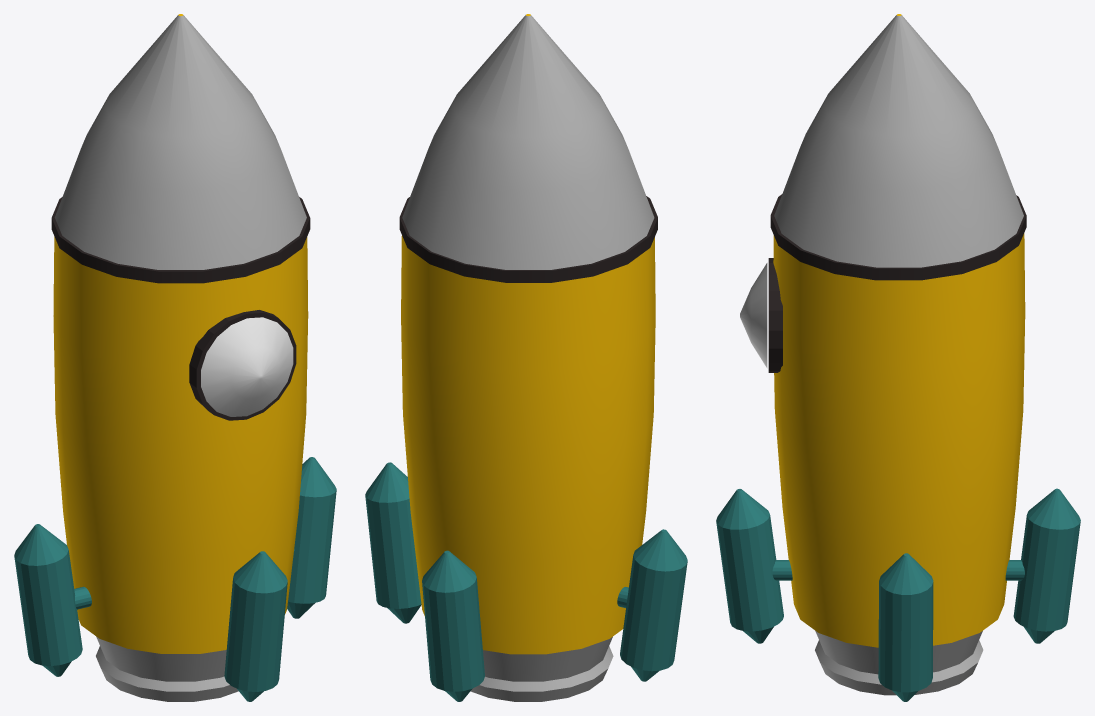
Rendered from rocket3.fbx.
The picture shows the model from 3 angles, left to right: view 1: azimuth 30°, elevation 25°; view 2: azimuth 150°, elevation 25°; view 3: azimuth 270°, elevation 25°; orthographic projection.
Visible parts, largest first — view 1: rocket3body.003; view 2: rocket3body.003; view 3: rocket3body.003.
Boxes of the visible parts, bbox=[...] form: rocket3body.003: bbox=[14, 14, 336, 701]; rocket3body.003: bbox=[365, 14, 687, 701]; rocket3body.003: bbox=[716, 14, 1080, 701].
Size of the model in its own units: 287 by 571 by 291.
Materials: 8 (7 with a texture image).
